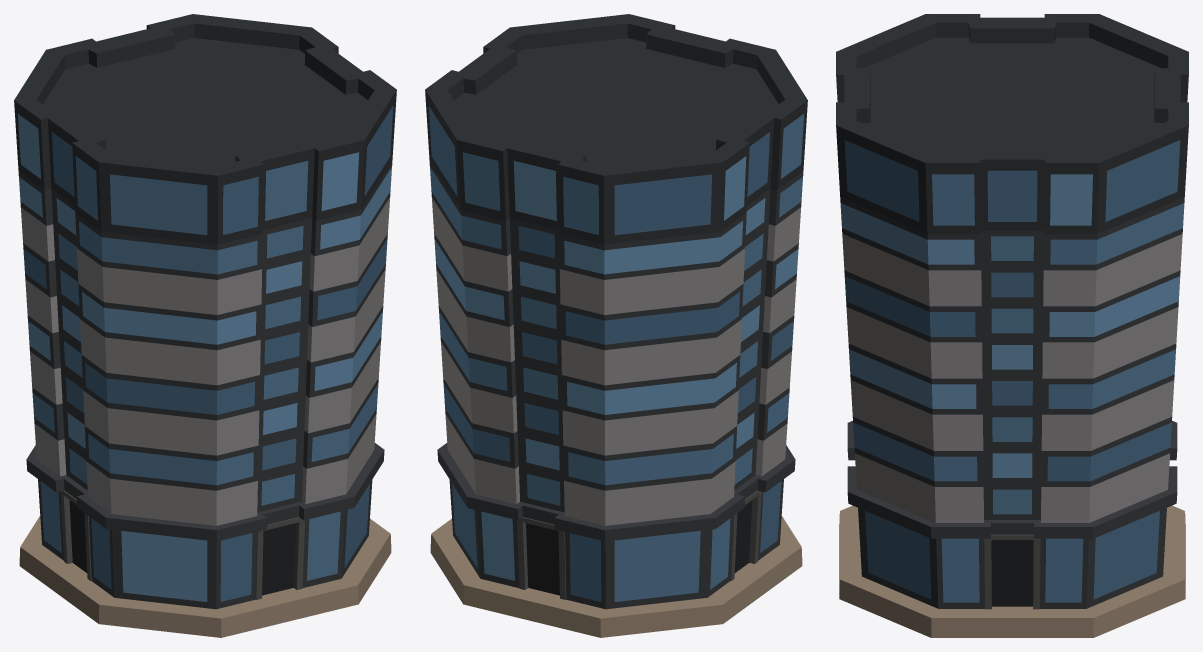
Rendered from Scene-Architecture_E-Architecture_E.glb.
3 renders of one model, left to right at view 1: azimuth 30°, elevation 25°; view 2: azimuth 150°, elevation 25°; view 3: azimuth 270°, elevation 25°, orthographic. The views are drawn at different scales.
Visible parts, largest first — view 1: Scene-Architecture_E-Architecture_E; view 2: Scene-Architecture_E-Architecture_E; view 3: Scene-Architecture_E-Architecture_E.
Boxes of the visible parts, x1=… form: Scene-Architecture_E-Architecture_E: x1=14, y1=14, x2=396, y2=637; Scene-Architecture_E-Architecture_E: x1=425, y1=14, x2=807, y2=637; Scene-Architecture_E-Architecture_E: x1=836, y1=14, x2=1188, y2=637.
Size of the model in its own units: 4.79 by 7.13 by 4.79.
Materials: 1 (1 with a texture image).
